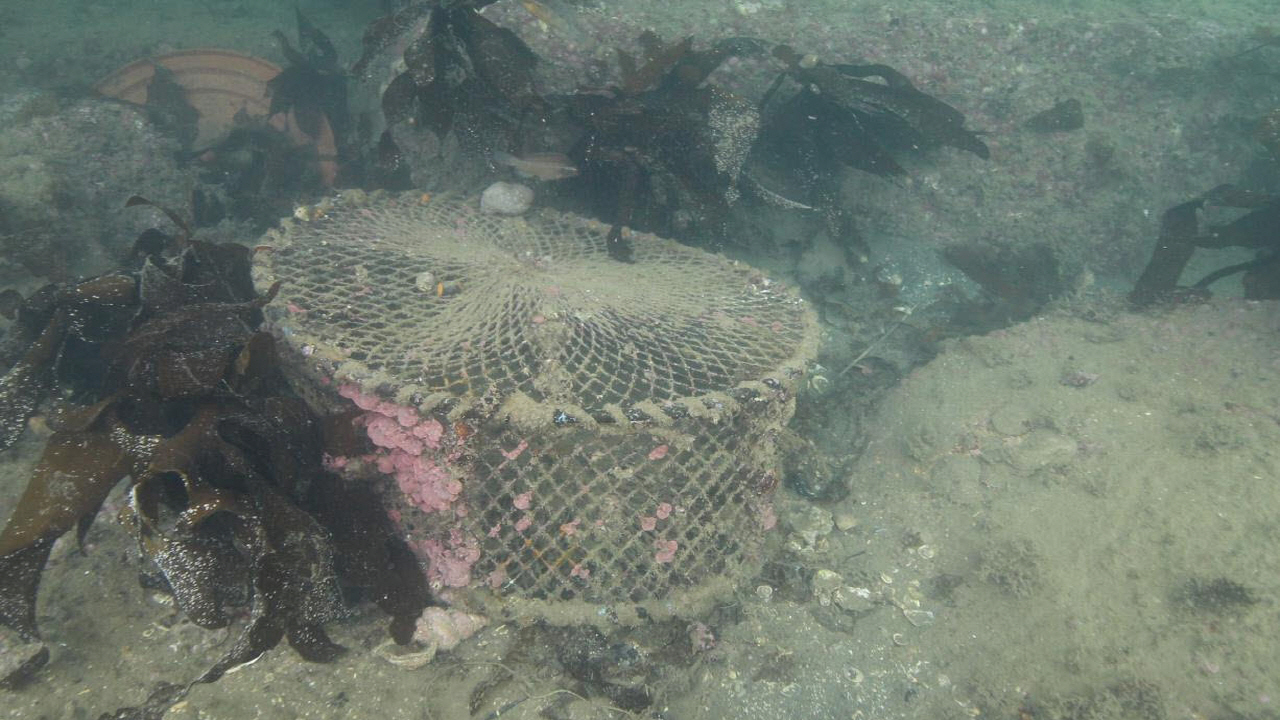circular fish trap: (250, 188, 823, 631)
